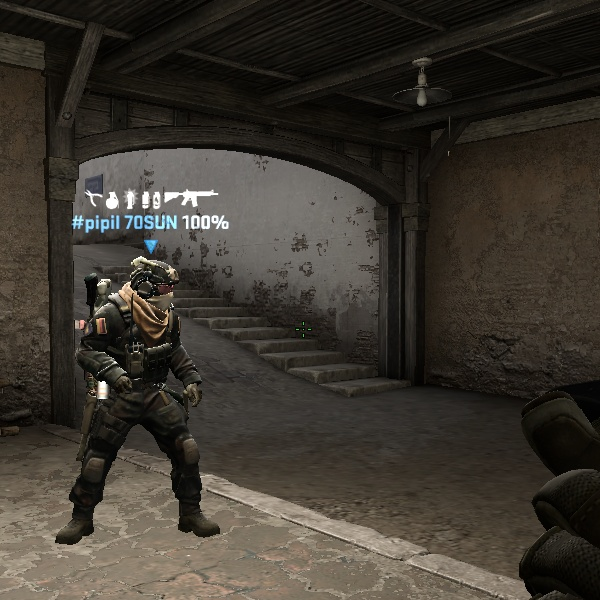ct_body: (66, 249, 227, 549)
ct_head: (119, 251, 188, 319)
